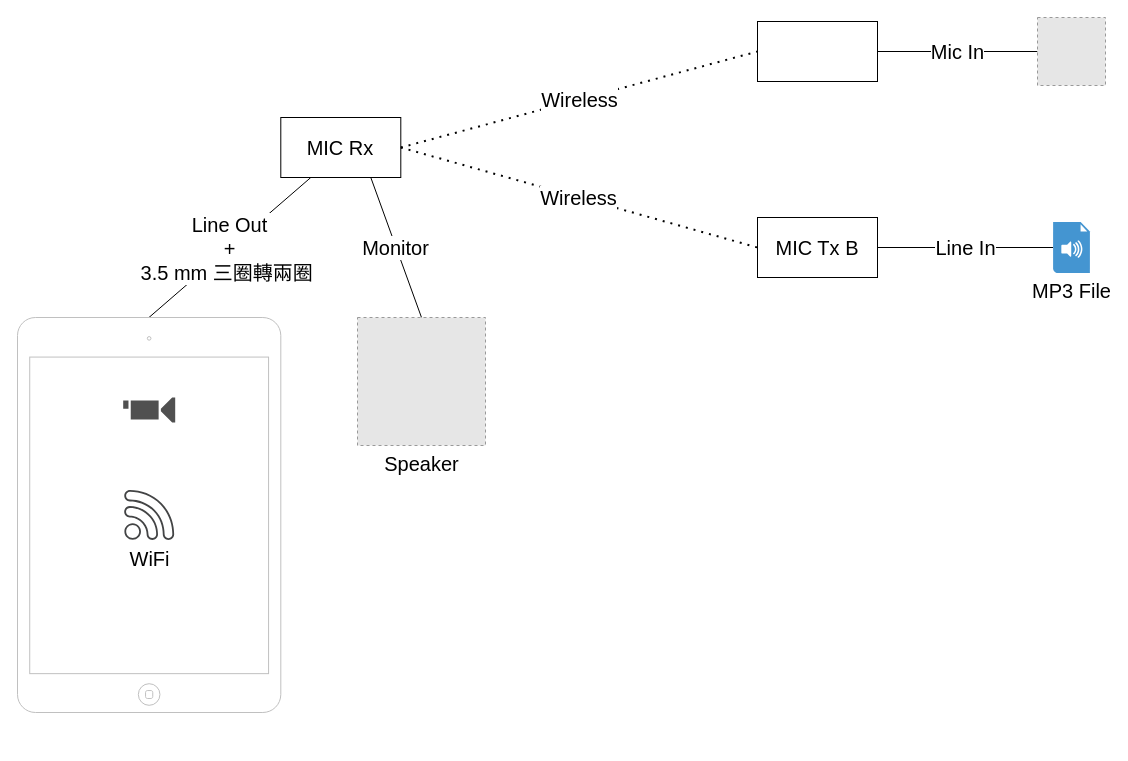
The diagram is 1128 pixels wide and 761 high, and some of its shapes have lost their labels. Grey dashed boxes stand in for pictures. Each missing label, with the box of its shape:
iPad on Microsoft Teams: (16, 316, 281, 712)
MIC Tx A: (756, 20, 878, 82)
